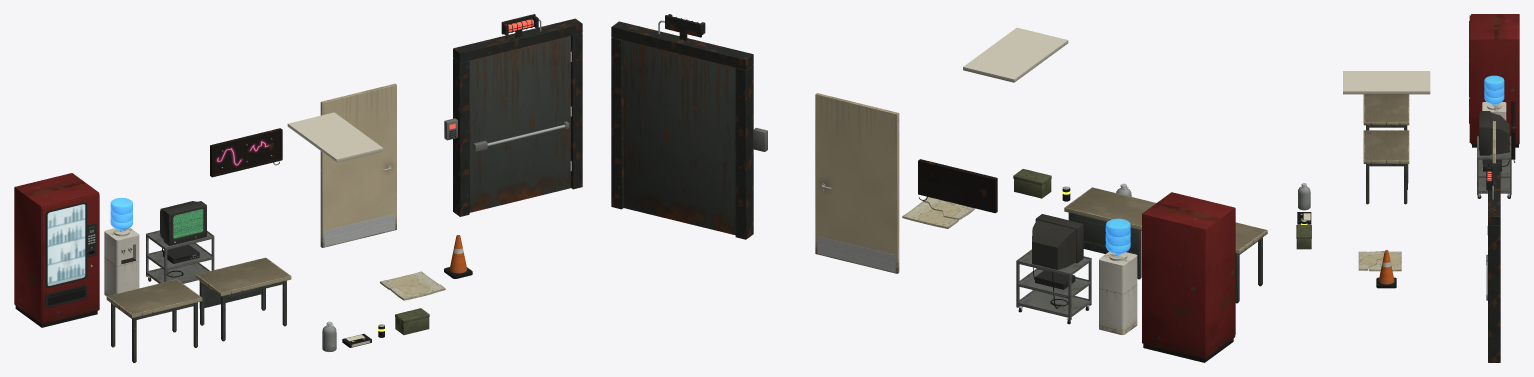
Rendered from props.glb.
The picture shows the model from 3 angles, left to right: view 1: azimuth 30°, elevation 25°; view 2: azimuth 150°, elevation 25°; view 3: azimuth 270°, elevation 25°; orthographic projection. The views are drawn at different scales.
Visible parts, largest first — view 1: prop_exit_door_mesh, prop_door_mesh, lm_vending_mesh, lm_crt_mesh, prop_desk_hide_mesh, prop_office_table_mesh, lm_cooler_mesh, vending_glass, troffer_frame, lm_neon_mesh, prop_fallen_tile_mesh, prop_ammo_can_mesh (+2 smaller); view 2: prop_exit_door_mesh, lm_vending_mesh, prop_door_mesh, lm_crt_mesh, lm_cooler_mesh, prop_desk_hide_mesh, troffer_frame, lm_neon_mesh, prop_fallen_tile_mesh, prop_office_table_mesh, prop_ammo_can_mesh; view 3: lm_vending_mesh, prop_exit_door_mesh, lm_crt_mesh, troffer_frame, prop_desk_hide_mesh, prop_office_table_mesh, lm_cooler_mesh, prop_fallen_tile_mesh, prop_cone_mesh, prop_ammo_can_mesh, prop_almond_water_mesh, lm_neon_mesh.
Boxes of the visible parts, box(x1,y1,x2,y2) form: prop_exit_door_mesh: box(444, 14, 582, 216); prop_door_mesh: box(320, 83, 396, 247); lm_vending_mesh: box(14, 173, 99, 327); lm_crt_mesh: box(146, 201, 214, 283); prop_desk_hide_mesh: box(195, 257, 291, 341); prop_office_table_mesh: box(106, 279, 202, 362); lm_cooler_mesh: box(104, 197, 139, 296); vending_glass: box(47, 204, 85, 285); troffer_frame: box(287, 112, 383, 162); lm_neon_mesh: box(210, 128, 282, 177); prop_fallen_tile_mesh: box(380, 271, 445, 300); prop_ammo_can_mesh: box(395, 308, 429, 334); prop_exit_door_mesh: box(611, 14, 767, 239); lm_vending_mesh: box(1142, 192, 1235, 362); prop_door_mesh: box(815, 93, 899, 273); lm_crt_mesh: box(1016, 214, 1091, 324); lm_cooler_mesh: box(1099, 218, 1137, 335); prop_desk_hide_mesh: box(1064, 187, 1156, 279); troffer_frame: box(963, 27, 1068, 82); lm_neon_mesh: box(918, 159, 997, 213); prop_fallen_tile_mesh: box(902, 197, 974, 228); prop_office_table_mesh: box(1235, 222, 1267, 303); prop_ammo_can_mesh: box(1013, 169, 1051, 198); lm_vending_mesh: box(1469, 14, 1519, 147); prop_exit_door_mesh: box(1486, 163, 1500, 362); lm_crt_mesh: box(1477, 111, 1511, 198); troffer_frame: box(1343, 71, 1430, 94); prop_desk_hide_mesh: box(1363, 130, 1409, 204); prop_office_table_mesh: box(1363, 94, 1409, 130); lm_cooler_mesh: box(1482, 75, 1506, 120); prop_fallen_tile_mesh: box(1358, 251, 1401, 271); prop_cone_mesh: box(1376, 250, 1396, 288); prop_ammo_can_mesh: box(1296, 225, 1311, 249); prop_almond_water_mesh: box(1298, 183, 1310, 210); lm_neon_mesh: box(1511, 101, 1515, 162).
Size of the model in its own units: 8.97 by 2.84 by 3.52.
Materials: 32 (21 with a texture image).
